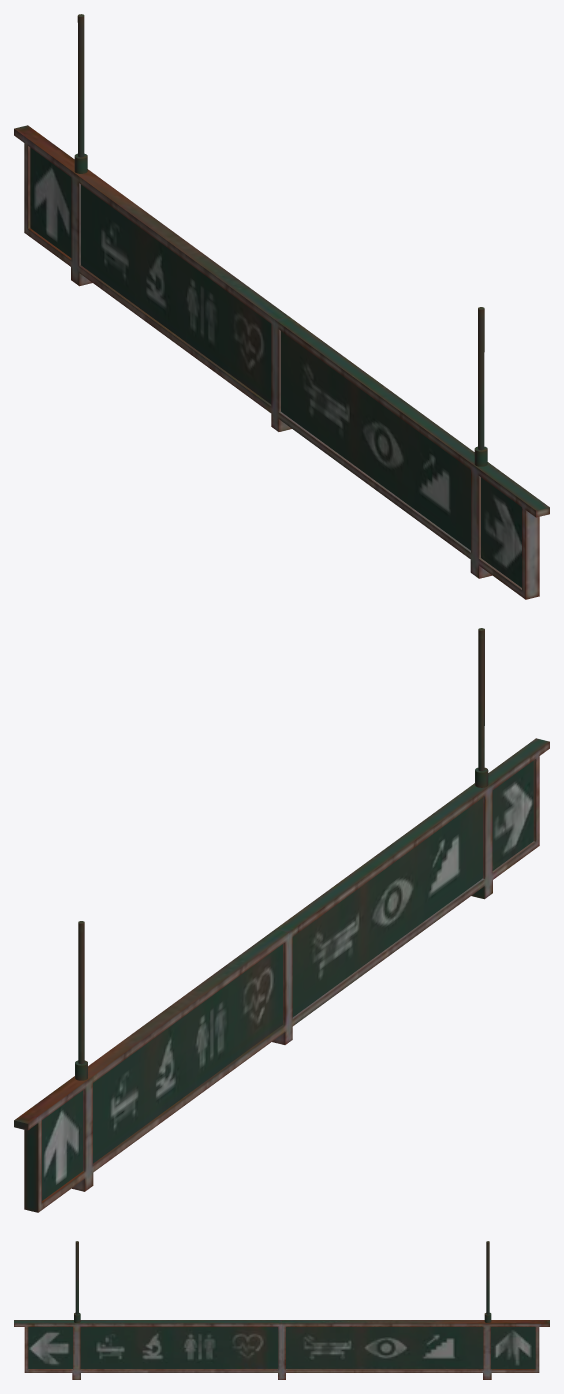
The model's file is hosp-sign.lod0.glb.
3 views of the same model, one above another, from view 1: azimuth 30°, elevation 25°; view 2: azimuth 150°, elevation 25°; view 3: azimuth 270°, elevation 25° (orthographic). The views are drawn at different scales.
Parts seen in each view (by area): view 1: defaultMaterial; view 2: defaultMaterial; view 3: defaultMaterial.
Part boxes in pixels (box(x1,y1,x2,y2)): defaultMaterial: box(14, 14, 549, 599); defaultMaterial: box(14, 628, 549, 1212); defaultMaterial: box(14, 1241, 549, 1379).
Bounding box in the file's own units: 0.0246 × 0.4487 × 1.6.
Materials: 1 (1 with a texture image).
